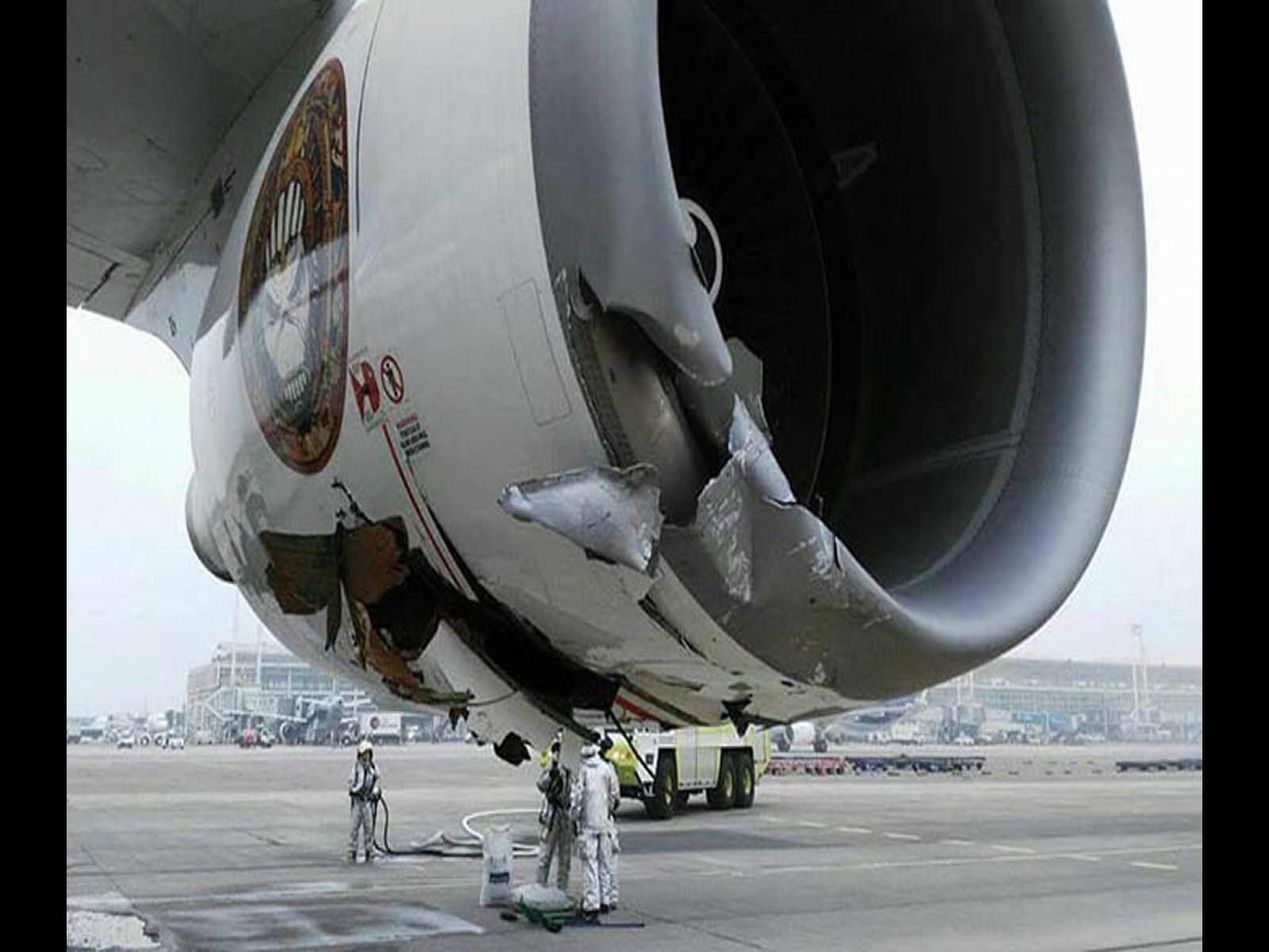Engine_damage: (259, 480, 627, 740), (700, 391, 903, 623), (567, 301, 742, 529), (571, 264, 734, 386), (497, 463, 664, 574)
